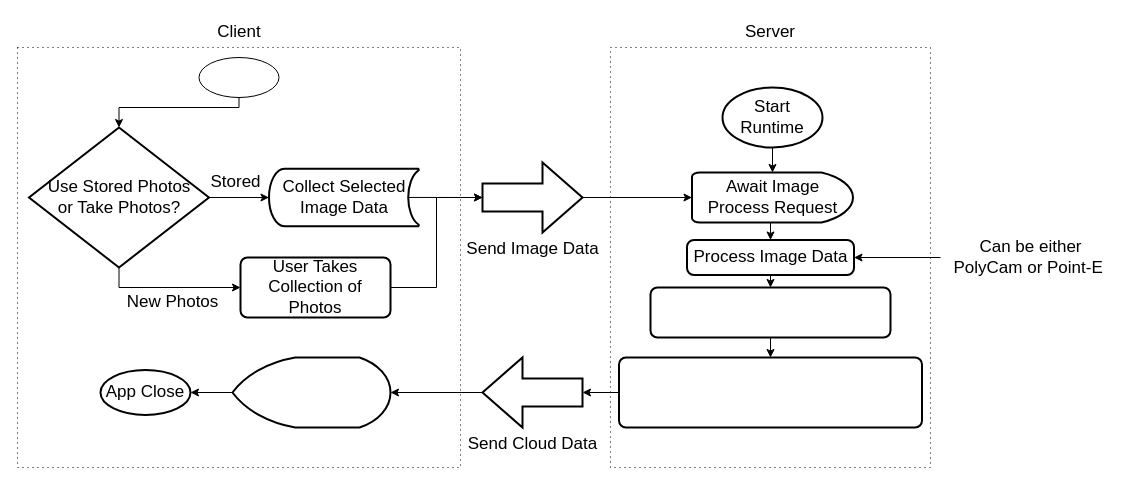
The diagram is 1138 pixels wide and 485 high, and some of its shapes have lost their labels. The box of each missing label's shape, as (x1, y1, x2, y2) in pixels:
App Start: (198, 56, 279, 98)
Create Pointcloud from Processed Data: (649, 286, 891, 338)
Display Created Model: (231, 356, 391, 428)
Reconstruct Created Cloud using Reconstruction Model or alternative.: (618, 356, 922, 428)
